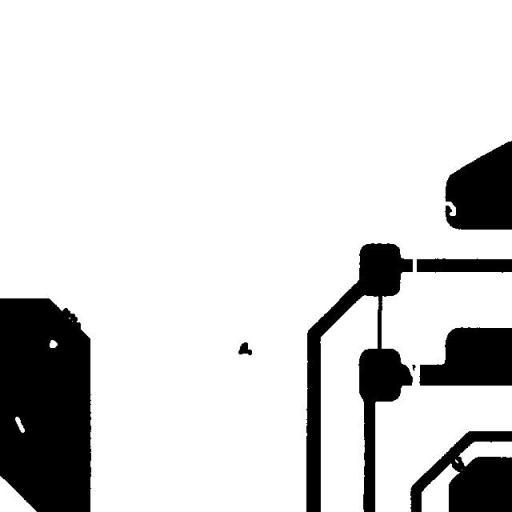copper: (230, 334, 260, 362)
mousebite: (434, 194, 463, 223)
open: (398, 350, 428, 400), (405, 246, 424, 282)
pin-hole: (7, 409, 32, 440), (42, 332, 64, 355)
short: (368, 280, 390, 379), (442, 448, 473, 479)
spur: (54, 300, 88, 338)
